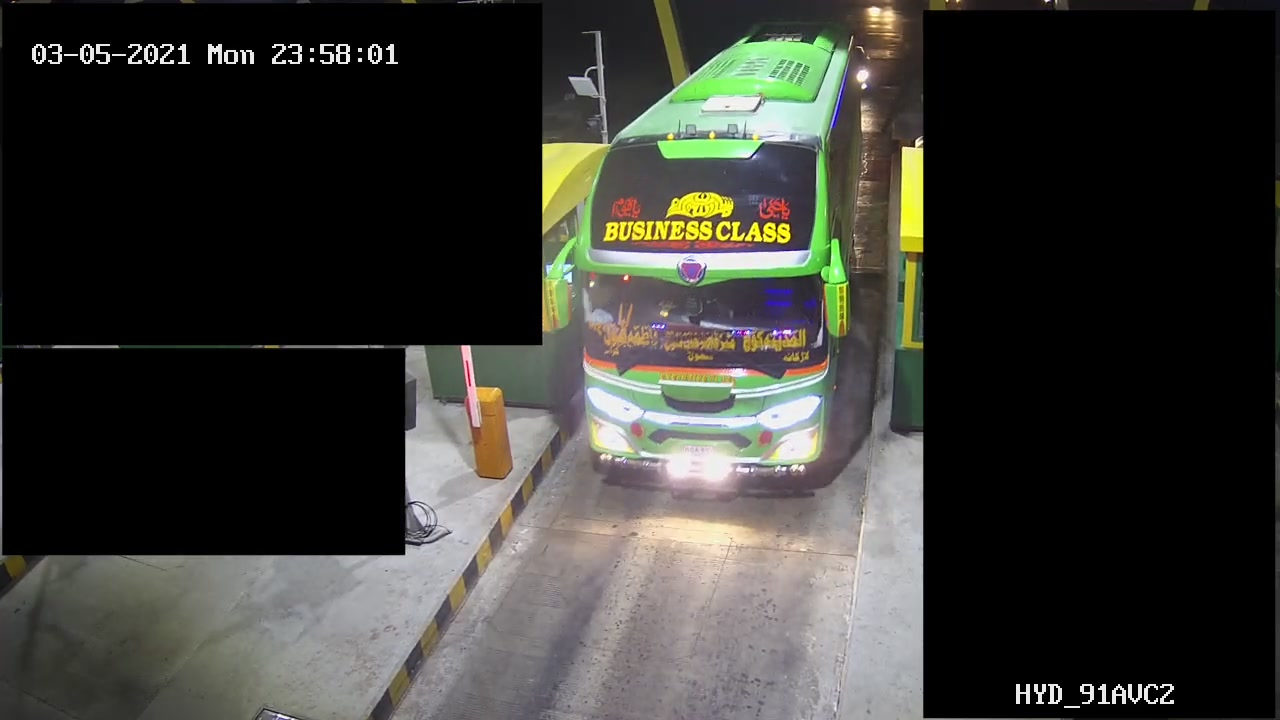F4: (578, 10, 868, 484)
